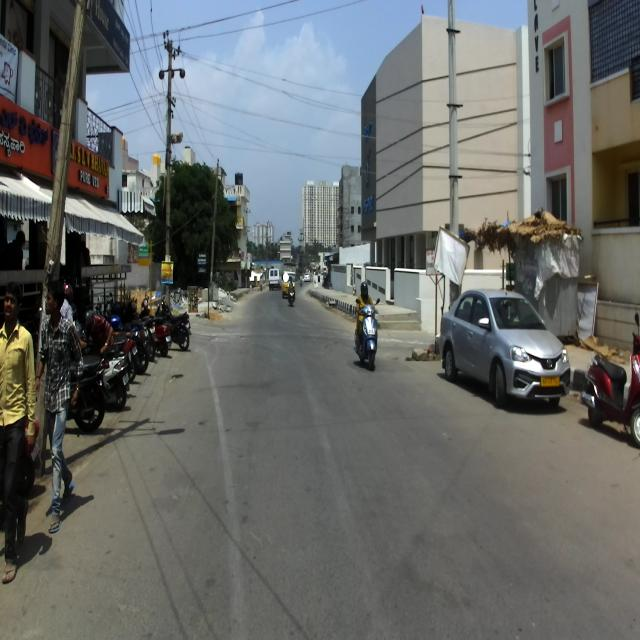car ahead at: (438, 281, 574, 420)
motorcycle ahead at: (582, 316, 640, 441)
person ahead at: (0, 283, 37, 587), (44, 281, 77, 535)
